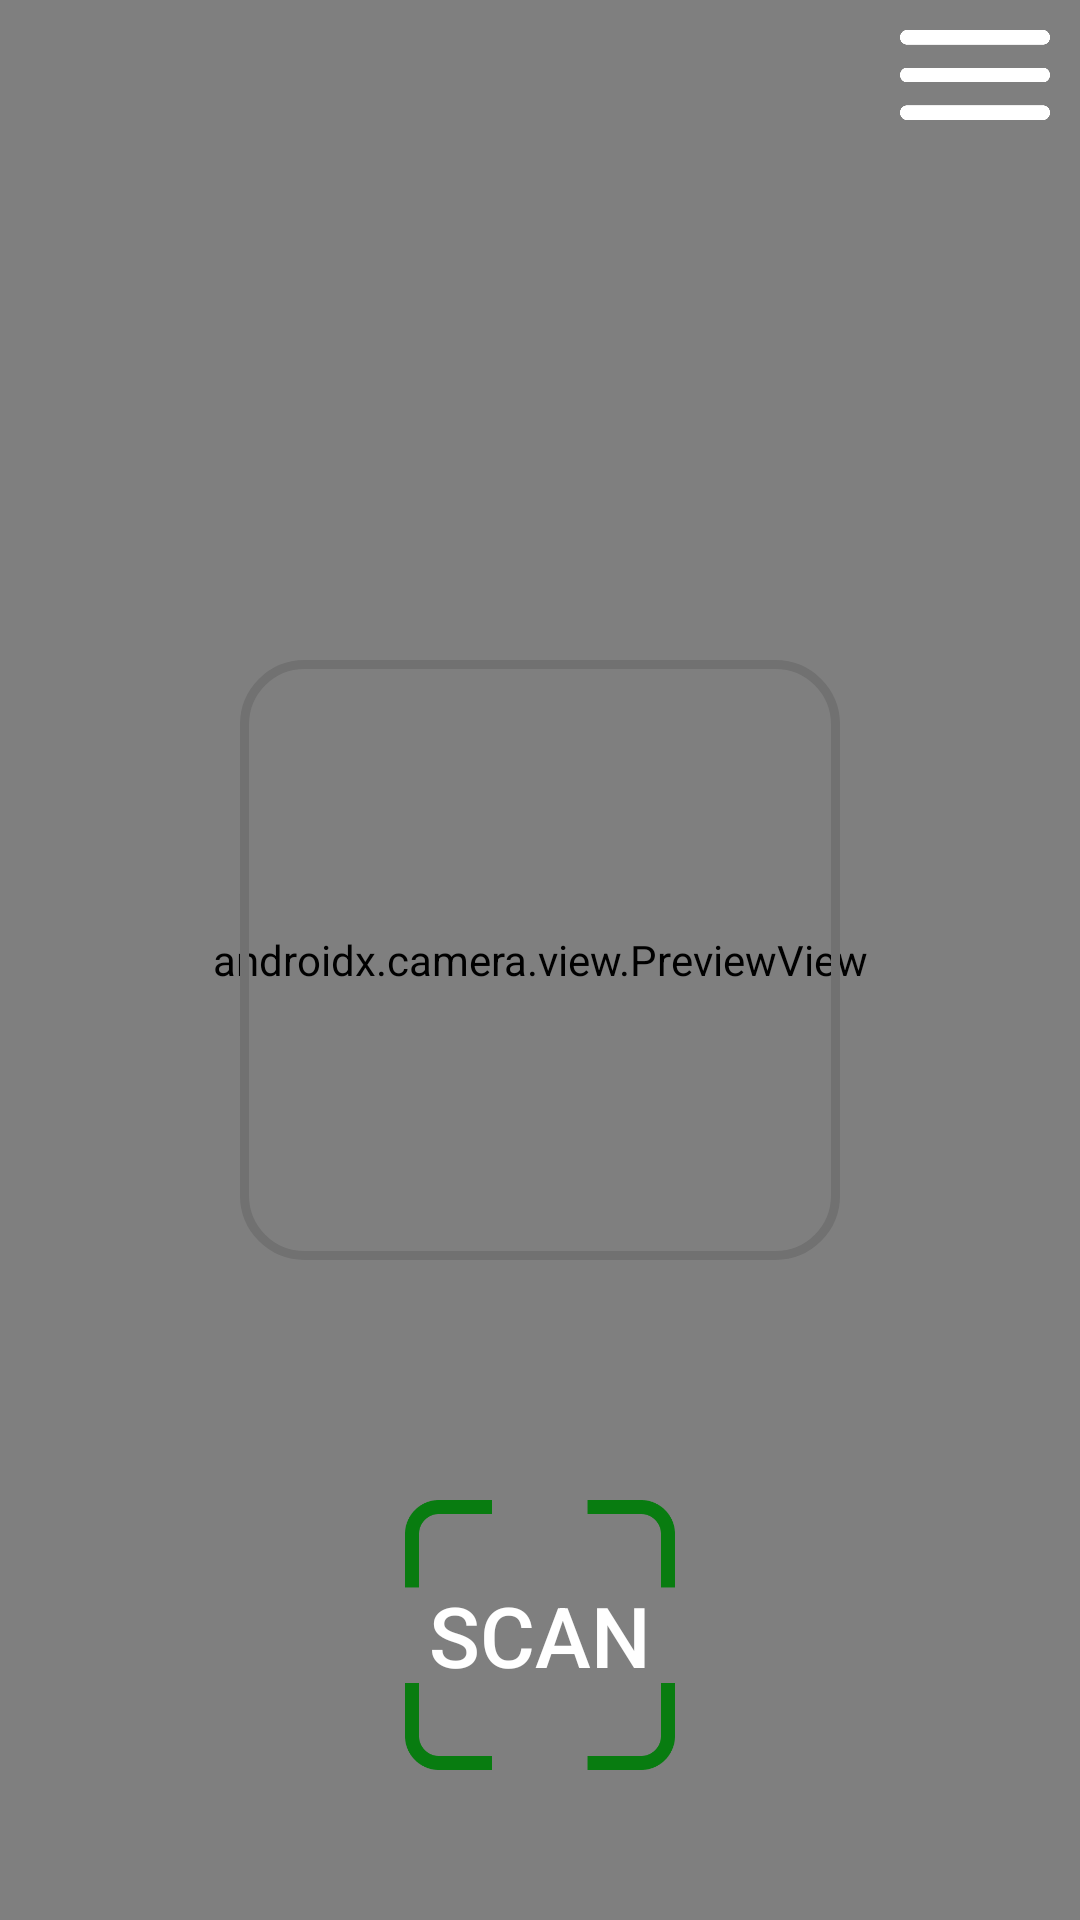

Icons on this 1080px×1920px Android screen, each with its box as rect(x1, y1, x2, y2):
menu: rect(900, 30, 1050, 120)
